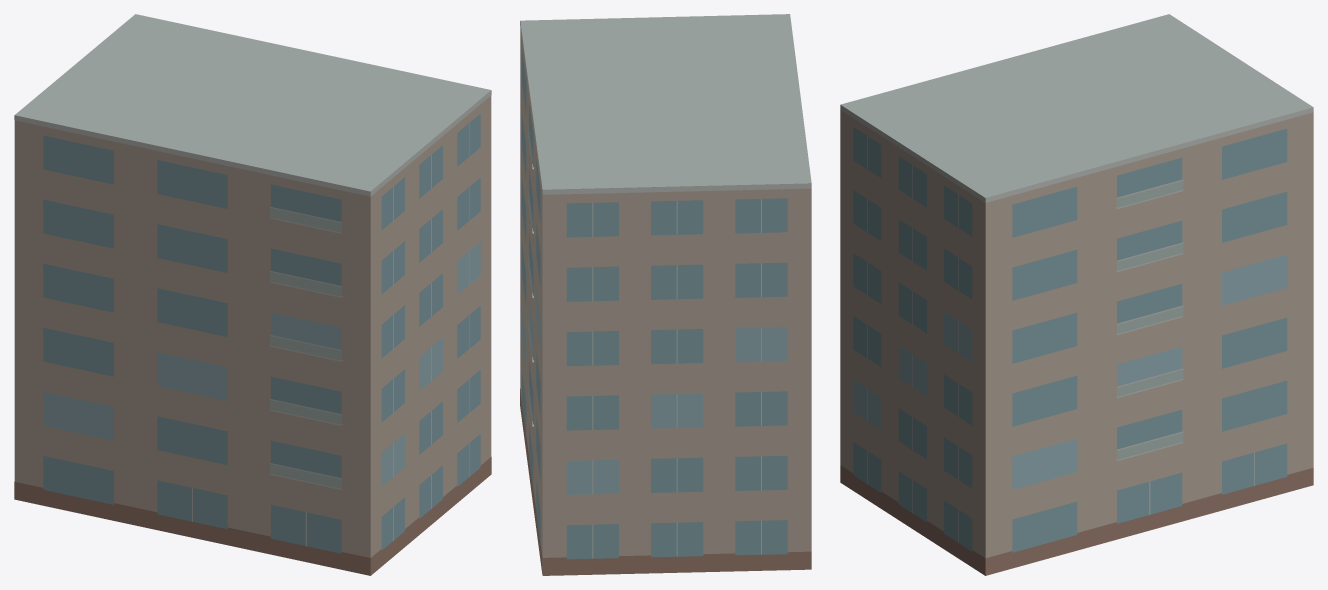
File: survey-upis-32751816.glb
3 views of the same model, side by side, from view 1: azimuth 30°, elevation 25°; view 2: azimuth 150°, elevation 25°; view 3: azimuth 270°, elevation 25° (orthographic). The views are drawn at different scales.
Visible parts, largest first — view 1: survey-upis-32751816.tmp; view 2: survey-upis-32751816.tmp; view 3: survey-upis-32751816.tmp.
Part boxes in pixels (box(x1,y1,x2,y2)): survey-upis-32751816.tmp: box(14, 14, 491, 575); survey-upis-32751816.tmp: box(520, 14, 811, 575); survey-upis-32751816.tmp: box(840, 14, 1313, 575).
Bounding box in the file's own units: 19.12 × 18.3 × 20.79.
